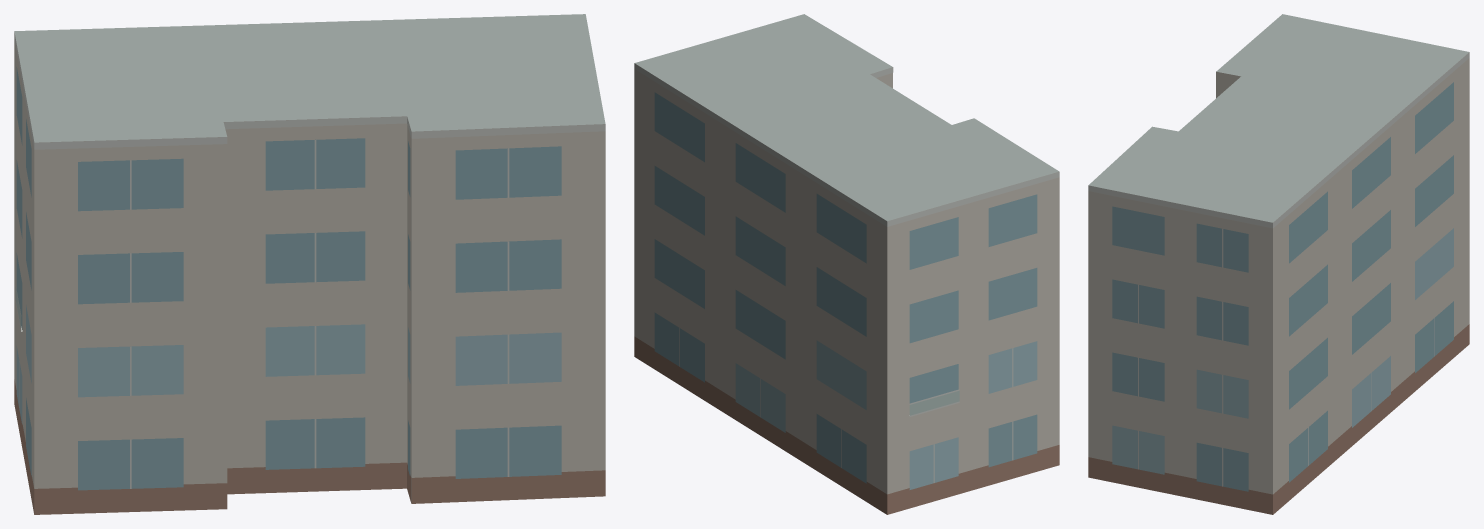
File: survey-upis-33012102.glb
3 renders of one model, left to right at view 1: azimuth 30°, elevation 25°; view 2: azimuth 150°, elevation 25°; view 3: azimuth 270°, elevation 25°, orthographic. The views are drawn at different scales.
Parts seen in each view (by area): view 1: survey-upis-33012102.tmp; view 2: survey-upis-33012102.tmp; view 3: survey-upis-33012102.tmp.
Boxes of the visible parts, bbox=[...] form: survey-upis-33012102.tmp: bbox=[14, 14, 605, 514]; survey-upis-33012102.tmp: bbox=[634, 14, 1059, 514]; survey-upis-33012102.tmp: bbox=[1088, 14, 1469, 514].
Size of the model in its own units: 19.32 by 12.6 by 14.92.
